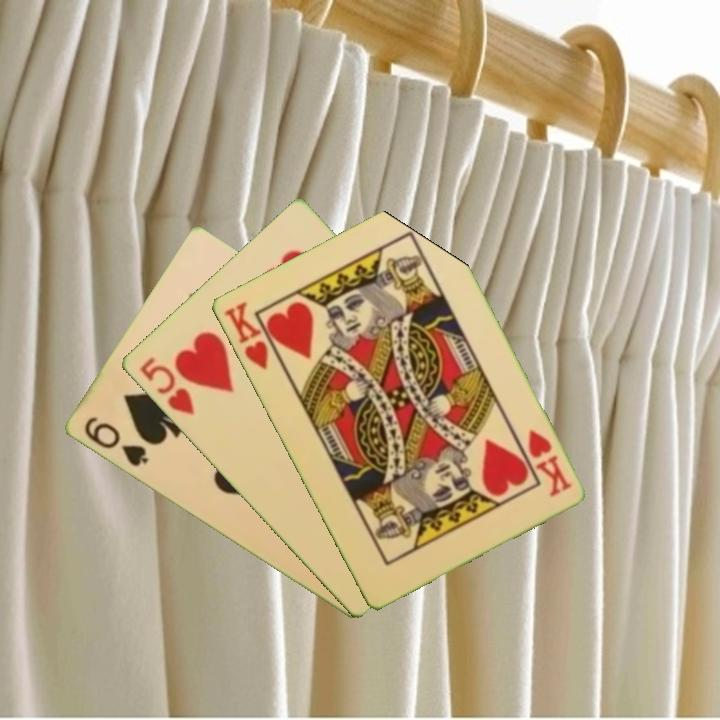5h: (135, 353, 197, 418)
6s: (80, 412, 151, 470)
Kh: (219, 298, 284, 373), (523, 425, 574, 500)
